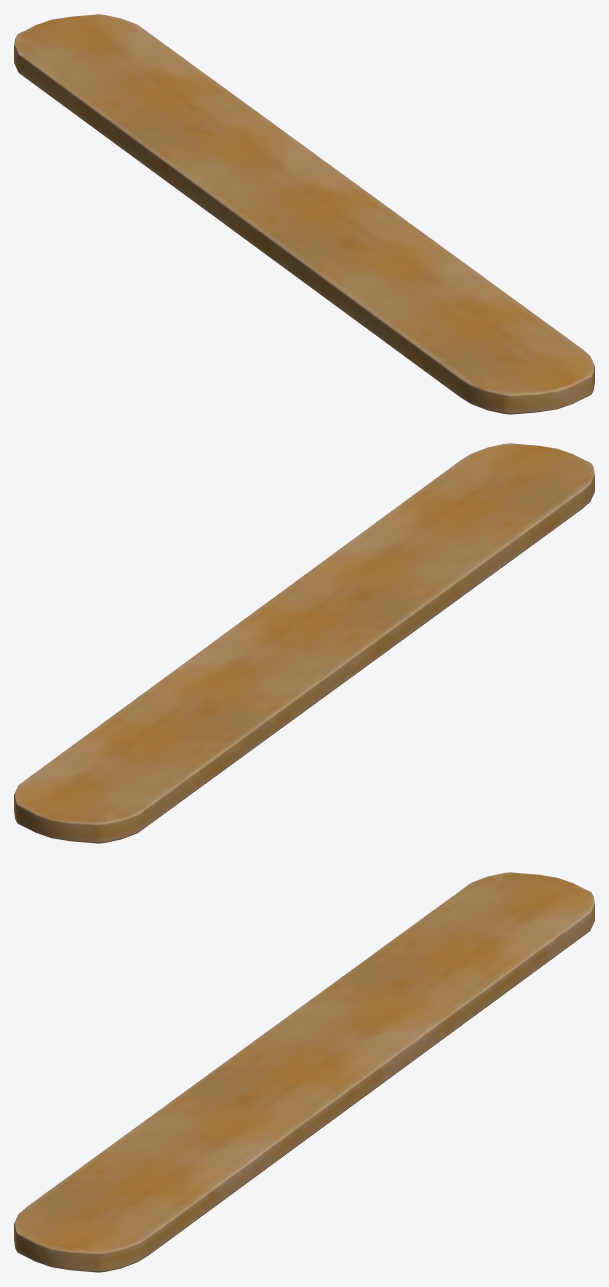
File: xuegaogun.fbx
The picture shows the model from 3 angles, top to bottom: view 1: azimuth 30°, elevation 25°; view 2: azimuth 150°, elevation 25°; view 3: azimuth 330°, elevation 25°; orthographic projection.
Parts seen in each view (by area): view 1: xuegaigun01; view 2: xuegaigun01; view 3: xuegaigun01.
Boxes of the visible parts, x1,y1,x2,y2 form: xuegaigun01: (14,14,594,414); xuegaigun01: (14,443,594,843); xuegaigun01: (14,872,594,1272).
Bounding box in the file's own units: 43.52 × 7.02 × 311.
